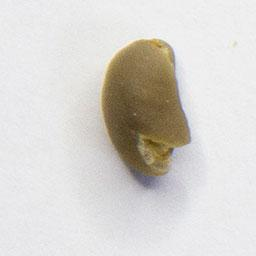peaberry: (97, 33, 197, 184)
